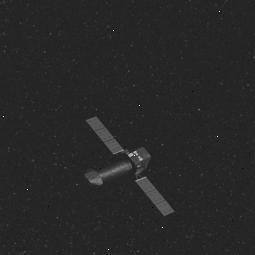xmm_newton: (82, 117, 172, 218)
